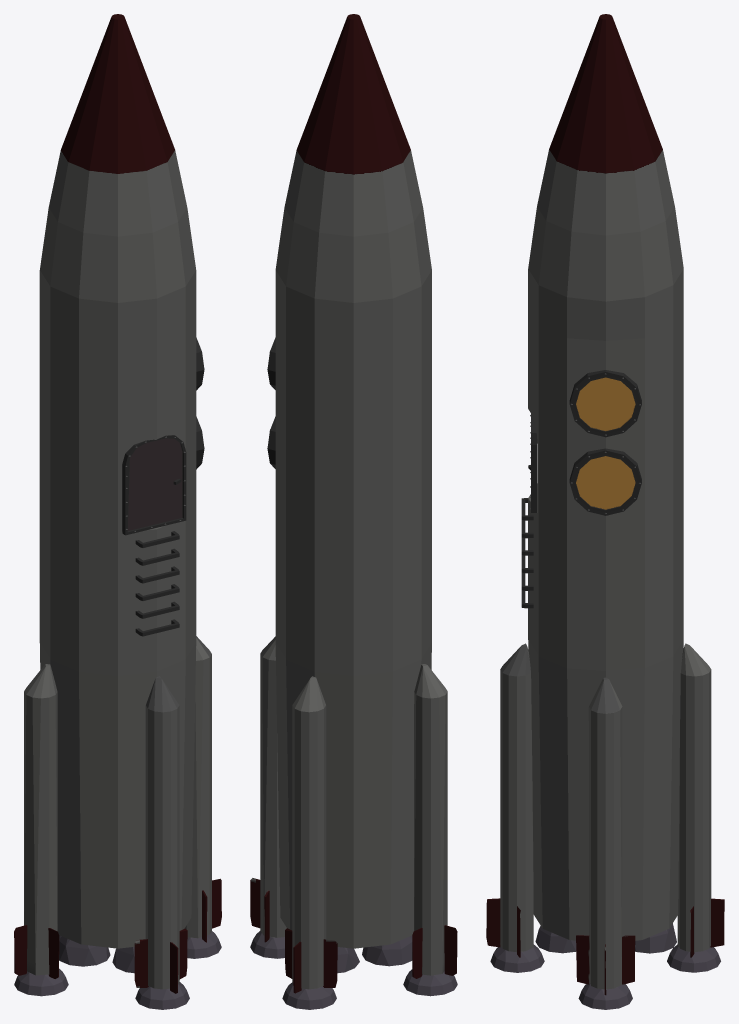
The model's file is Raketa.obj.
3 views of the same model, side by side, from view 1: azimuth 30°, elevation 25°; view 2: azimuth 150°, elevation 25°; view 3: azimuth 270°, elevation 25° (orthographic).
Visible parts, largest first — view 1: Rocket, Mini_Rocket.003, Mini_Rocket.002, Mini_Rocket.001, Door, Ladder; view 2: Rocket, Mini_Rocket, Mini_Rocket.002, Mini_Rocket.001; view 3: Rocket, Mini_Rocket.001, Mini_Rocket.003, Mini_Rocket, Windows, Windows.001, Ladder, Door.
Part boxes in pixels (left/top/right/bottom): Rocket: left=39, top=14, right=196, bottom=973; Mini_Rocket.003: left=134, top=676, right=189, bottom=1009; Mini_Rocket.002: left=14, top=664, right=68, bottom=996; Mini_Rocket.001: left=184, top=636, right=221, bottom=958; Door: left=122, top=435, right=186, bottom=535; Ladder: left=135, top=531, right=179, bottom=636; Rocket: left=275, top=14, right=431, bottom=973; Mini_Rocket: left=282, top=676, right=337, bottom=1009; Mini_Rocket.002: left=403, top=664, right=457, bottom=996; Mini_Rocket.001: left=250, top=636, right=286, bottom=958; Rocket: left=528, top=14, right=683, bottom=953; Mini_Rocket.001: left=576, top=677, right=635, bottom=1009; Mini_Rocket.003: left=486, top=643, right=544, bottom=972; Mini_Rocket: left=667, top=643, right=724, bottom=972; Windows: left=569, top=448, right=641, bottom=515; Windows.001: left=569, top=370, right=641, bottom=437; Ladder: left=521, top=498, right=533, bottom=608; Door: left=528, top=414, right=537, bottom=512.
Size of the model in its own units: 5.18 by 22.66 by 5.18.
1 material, 1 textured.
